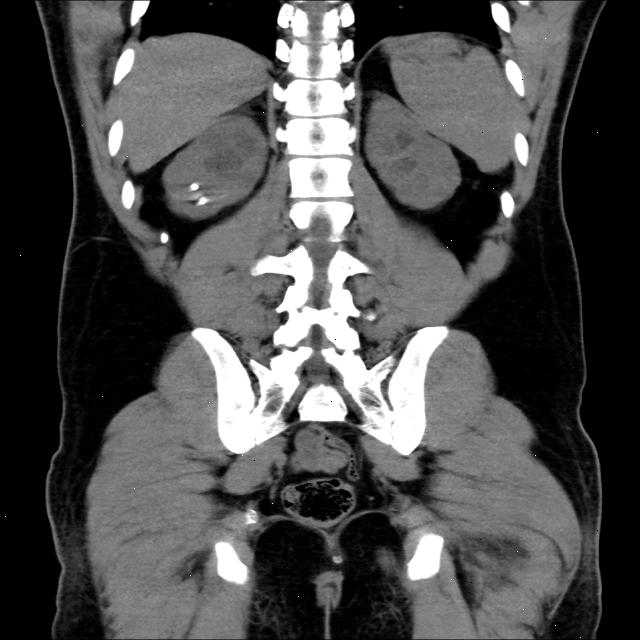kidneystone: (197, 196, 210, 204), (189, 182, 200, 191)
